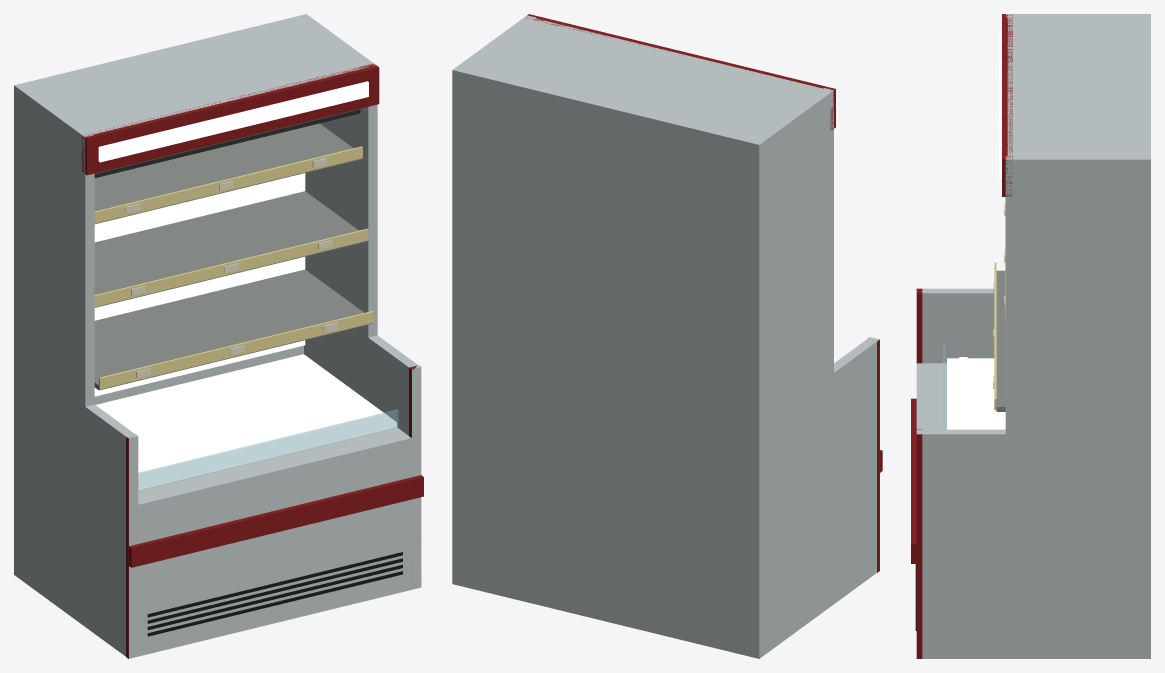
3 views of the same model, side by side, from view 1: azimuth 30°, elevation 25°; view 2: azimuth 150°, elevation 25°; view 3: azimuth 270°, elevation 25° (orthographic). The views are drawn at different scales.
Visible parts, largest first — view 1: ke_mat; view 2: ke_mat; view 3: ke_mat.
Boxes of the visible parts, left/top/right/bottom form: ke_mat: left=14, top=14, right=423, bottom=658; ke_mat: left=452, top=14, right=882, bottom=658; ke_mat: left=911, top=14, right=1150, bottom=658.
Bounding box in the file's own units: 1.25 × 2 × 0.87.
